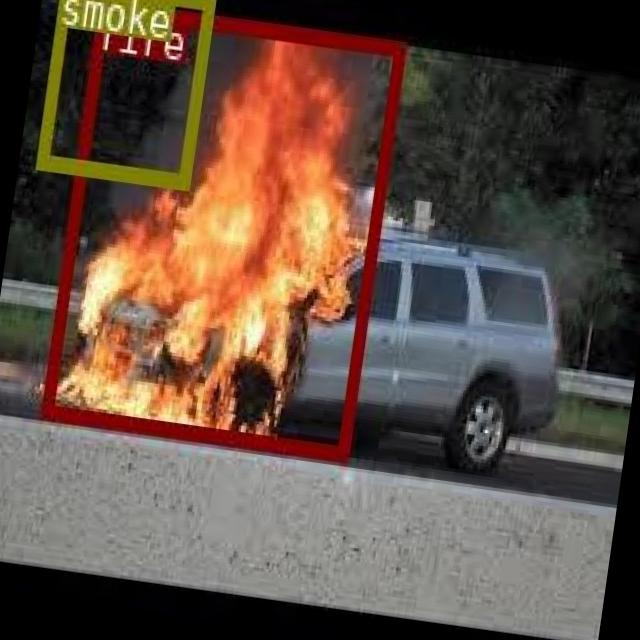fire: (39, 0, 406, 458)
smoke: (35, 0, 213, 186)
